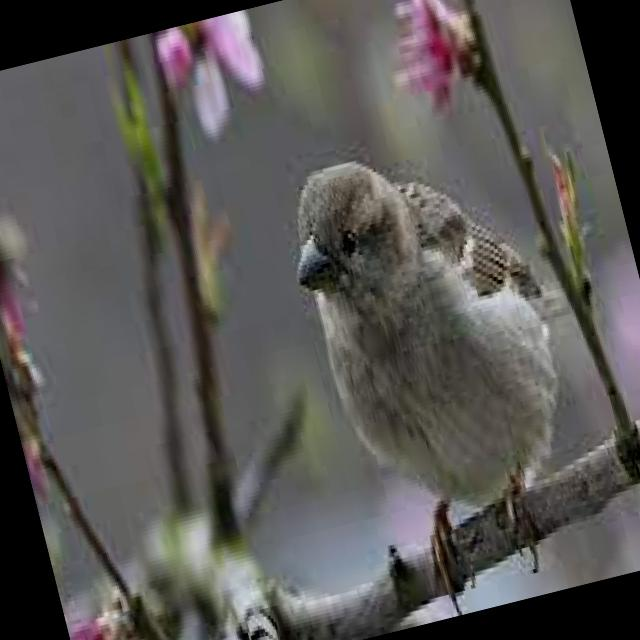bird: (264, 104, 634, 635)
